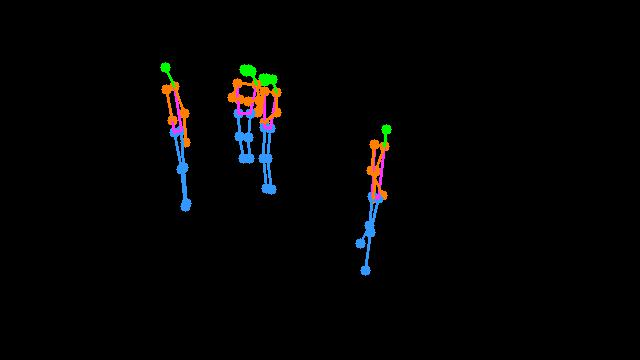normal: (213, 48, 299, 205), (334, 110, 407, 285), (140, 45, 204, 219)
